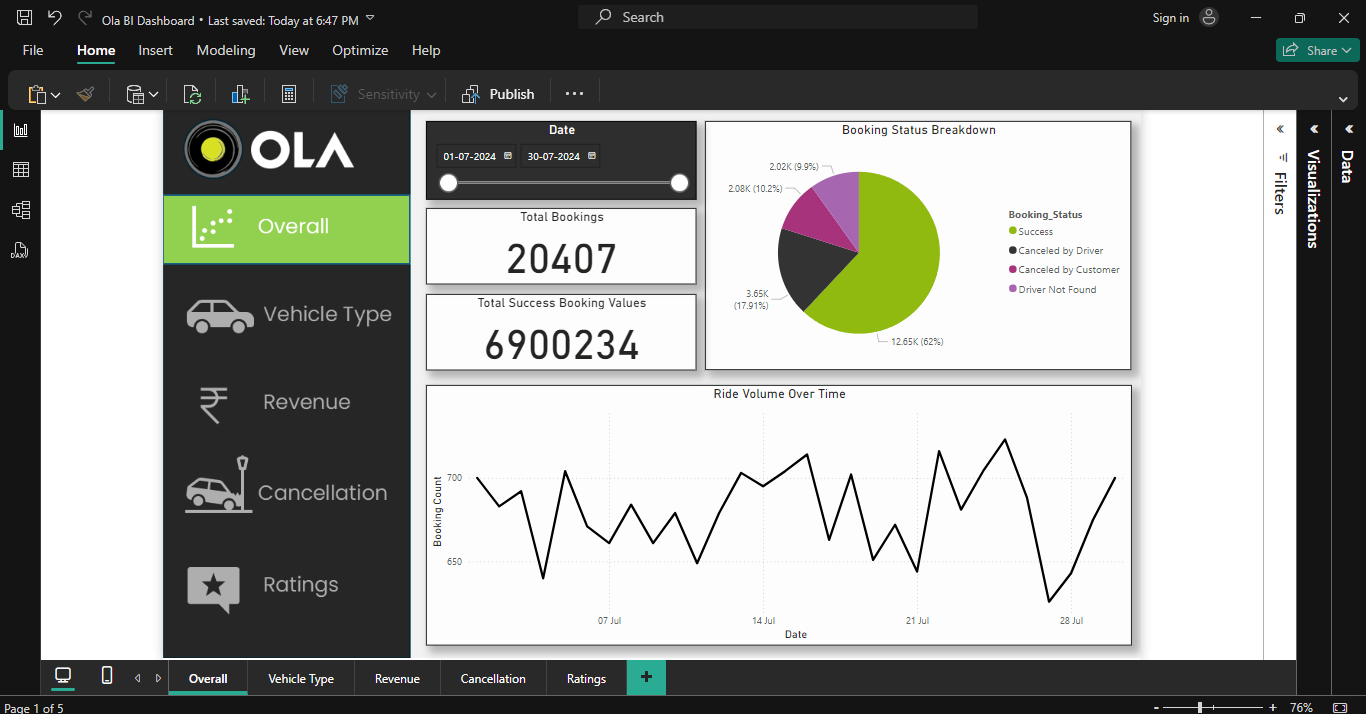

The dashboard page shown, as its layout file describes it:
{"tool":"powerbi","page":{"name":"Overall","canvas":[1280,720],"ordinal":0},"visuals":[{"type":"actionButton","box":[0,221.4,324.3,91.4],"z":0},{"type":"actionButton","box":[0,334.3,324.3,91.4],"z":1000},{"type":"actionButton","box":[0,442.3,324.7,107.3],"z":2000},{"type":"actionButton","box":[0,570.1,324.7,107.3],"z":3000},{"type":"lineChart","title":"Ride Volume Over Time","fields":{"Category":["Ola BookingsData.Date"],"Y":["CountNonNull(Ola BookingsData.Booking_ID)"]},"box":[343.8,360,924.2,340.9],"z":4000},{"type":"pieChart","title":"Booking Status Breakdown","fields":{"Category":["Ola BookingsData.Booking_Status"],"Y":["CountNonNull(Ola BookingsData.Booking_ID)"]},"box":[709.7,14.7,558.4,326.2],"z":5000},{"type":"slicer","title":"Date","fields":{"Values":["Ola BookingsData.Date"]},"box":[343.8,14.7,354.1,102.9],"z":6000},{"type":"card","title":"Total Bookings","fields":{"Values":["Count(Ola BookingsData.Booking_ID)"]},"box":[343.8,127.8,354.1,99.9],"z":7000},{"type":"card","title":"Total Success  Booking Values","fields":{"Values":["Sum(Ola BookingsData.Booking_Value)"]},"box":[343.8,241,354.1,99.9],"z":8000}]}

Visuals, with their boxes on the page's 1280x720 design canvas (x1, y1, x2, y2). These are canvas units, not pixel positions in the 1366x714 screenshot, which may show the page scaled, cropped or inside an application window:
actionButton: rect(0, 221, 324, 313)
actionButton: rect(0, 334, 324, 426)
actionButton: rect(0, 442, 325, 550)
actionButton: rect(0, 570, 325, 677)
"Ride Volume Over Time" lineChart: rect(344, 360, 1268, 701)
"Booking Status Breakdown" pieChart: rect(710, 15, 1268, 341)
"Date" slicer: rect(344, 15, 698, 118)
"Total Bookings" card: rect(344, 128, 698, 228)
"Total Success  Booking Values" card: rect(344, 241, 698, 341)
